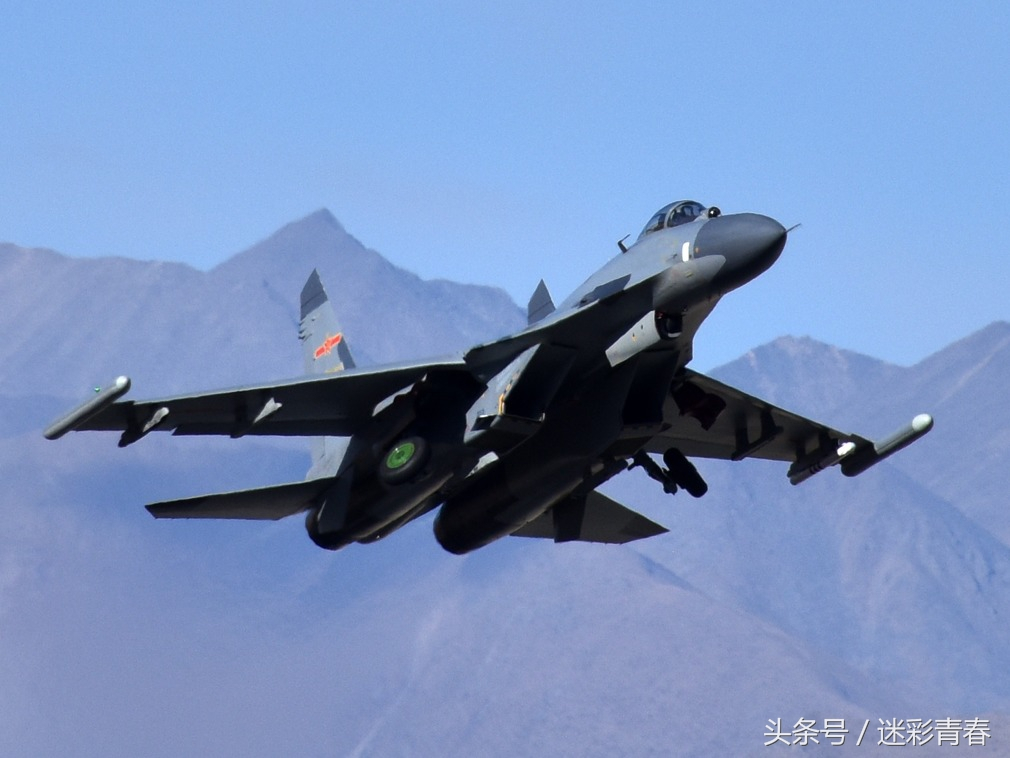airplane: (18, 196, 941, 559)
